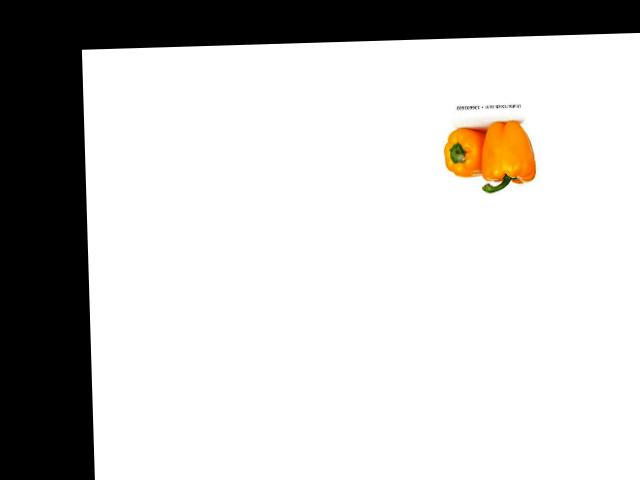bell_pepper: (442, 125, 489, 181)
